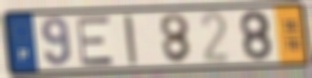2: (199, 10, 232, 65)
8: (238, 9, 274, 63), (158, 12, 194, 65)
9: (39, 15, 74, 70)
E: (75, 14, 117, 68)
I: (121, 13, 140, 68)
